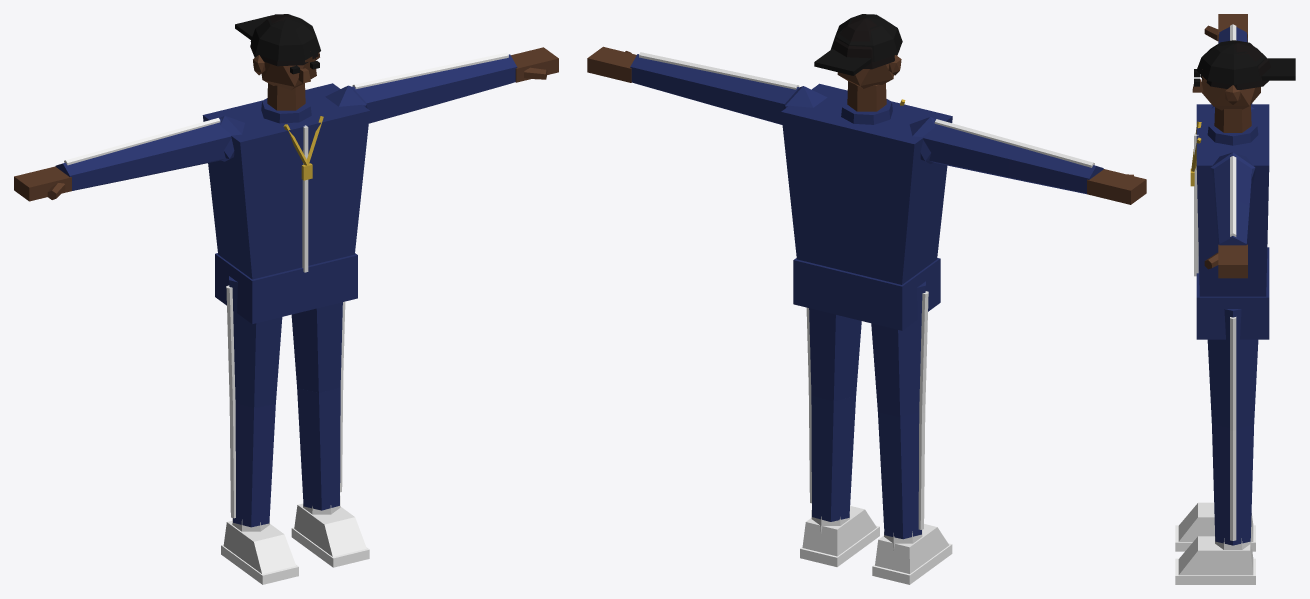
The model's file is Gang_Tracksuit.glb.
3 views of the same model, side by side, from view 1: azimuth 30°, elevation 25°; view 2: azimuth 150°, elevation 25°; view 3: azimuth 270°, elevation 25° (orthographic). The views are drawn at different scales.
Parts seen in each view (by area): view 1: Gang_Tracksuit; view 2: Gang_Tracksuit; view 3: Gang_Tracksuit.
Part boxes in pixels (<box>): Gang_Tracksuit: <box>14,14,558,584</box>; Gang_Tracksuit: <box>587,14,1146,584</box>; Gang_Tracksuit: <box>1175,14,1295,584</box>.
Bounding box in the file's own units: 1.8 × 1.73 × 0.365.
